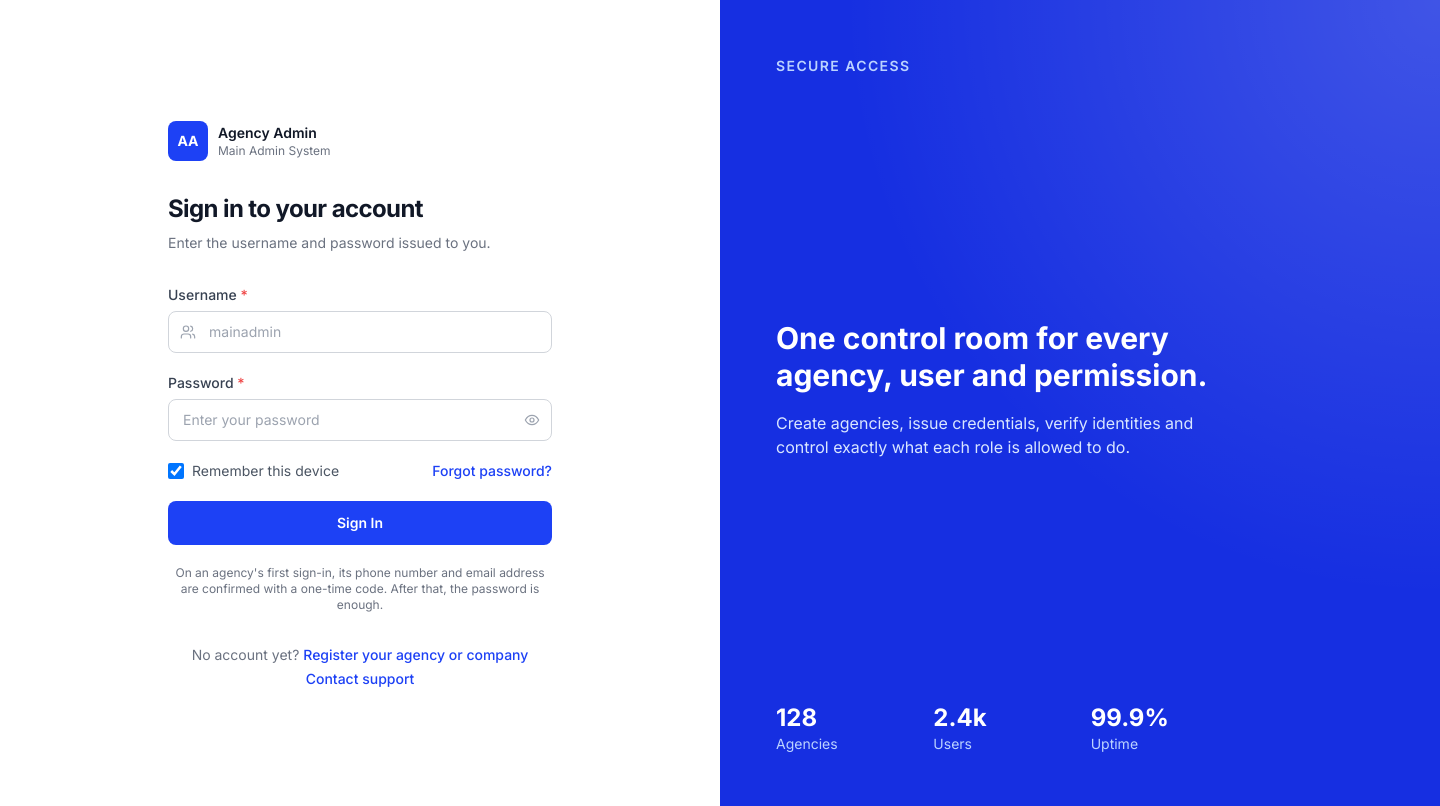
Scenario: two-factor sign-in flow › reaches the email step after the phone code is accepted
Type "main.admin" into the field labelled "Username *".
click(360, 332); type("main.admin")  # box 168,311 -> 552,353
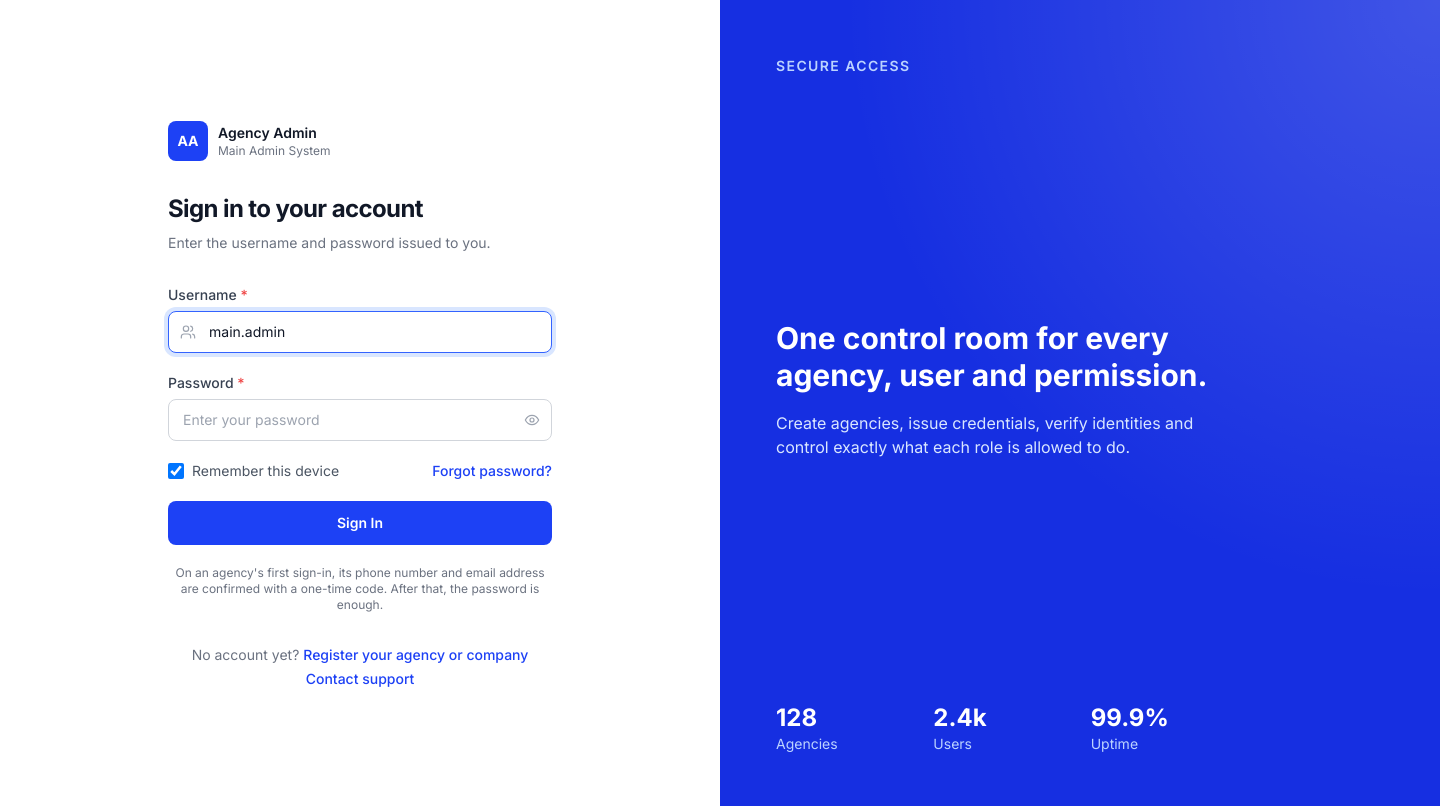
Type "secret123" into the password field labelled "Password *".
click(360, 420); type("secret123")  # box 168,399 -> 552,441
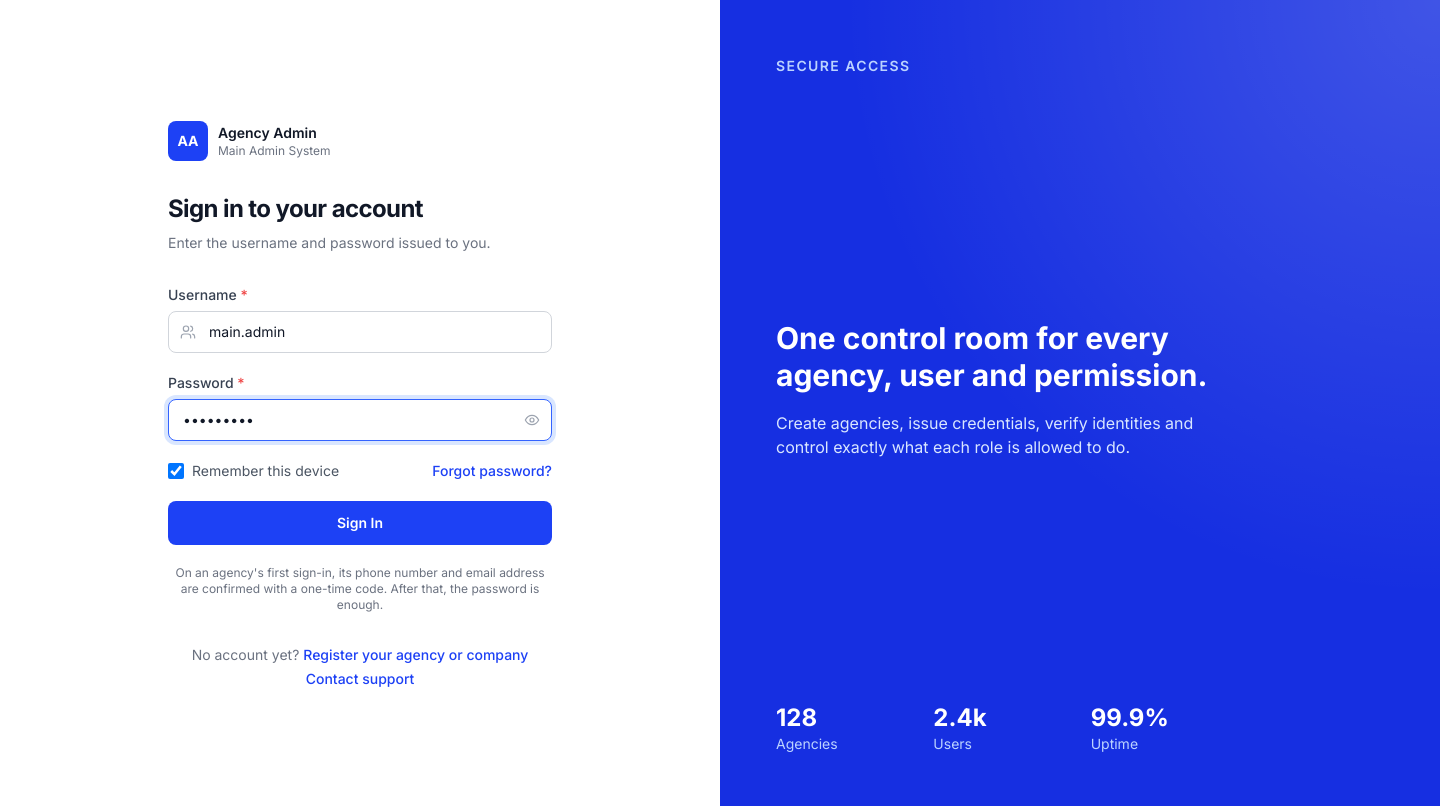
Click the button "Sign In".
click(360, 523)  # box 168,501 -> 552,545
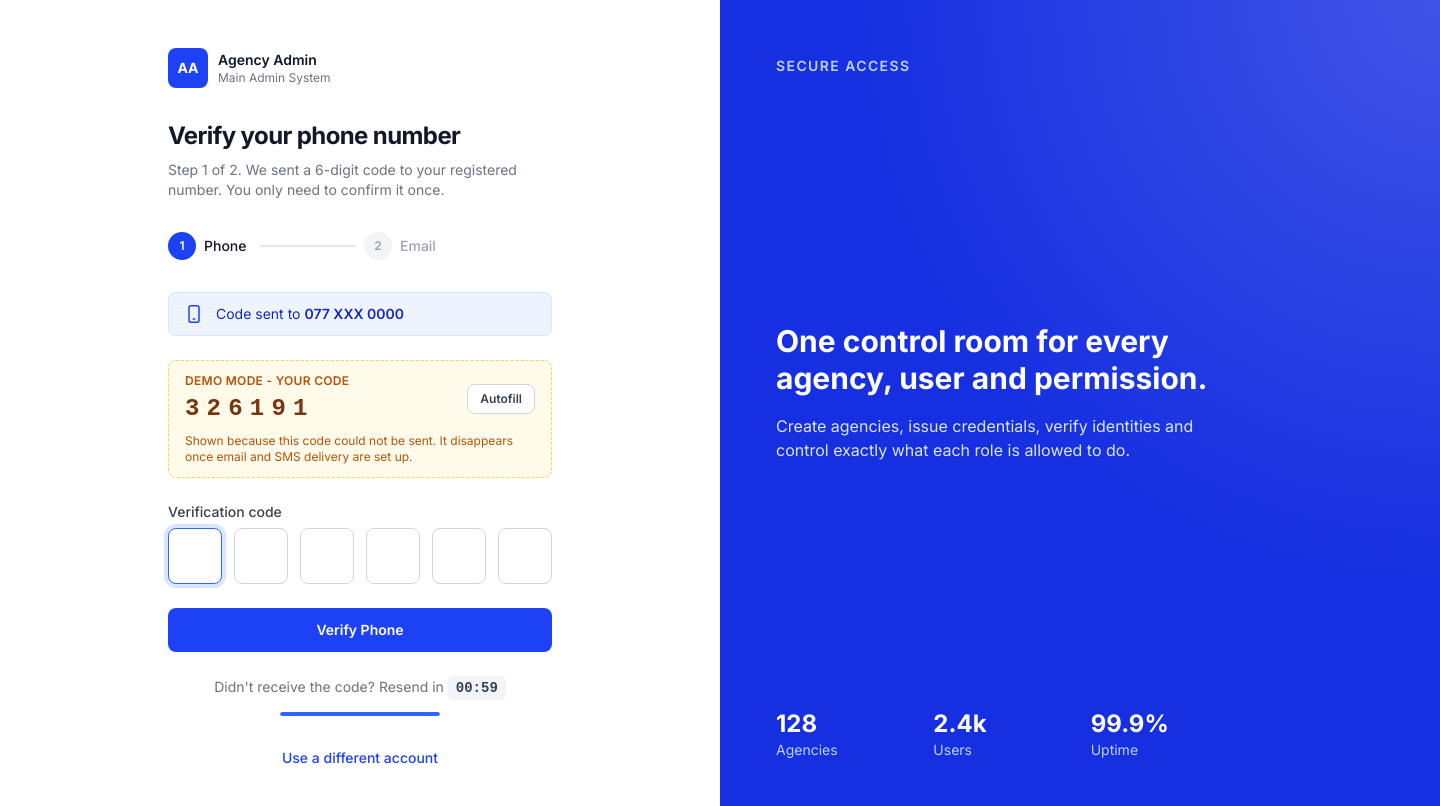
Check: the heading "Verify your phone number" is shown, box 168,121 -> 460,150
Click the button "Autofill".
click(501, 399)  # box 467,384 -> 535,414
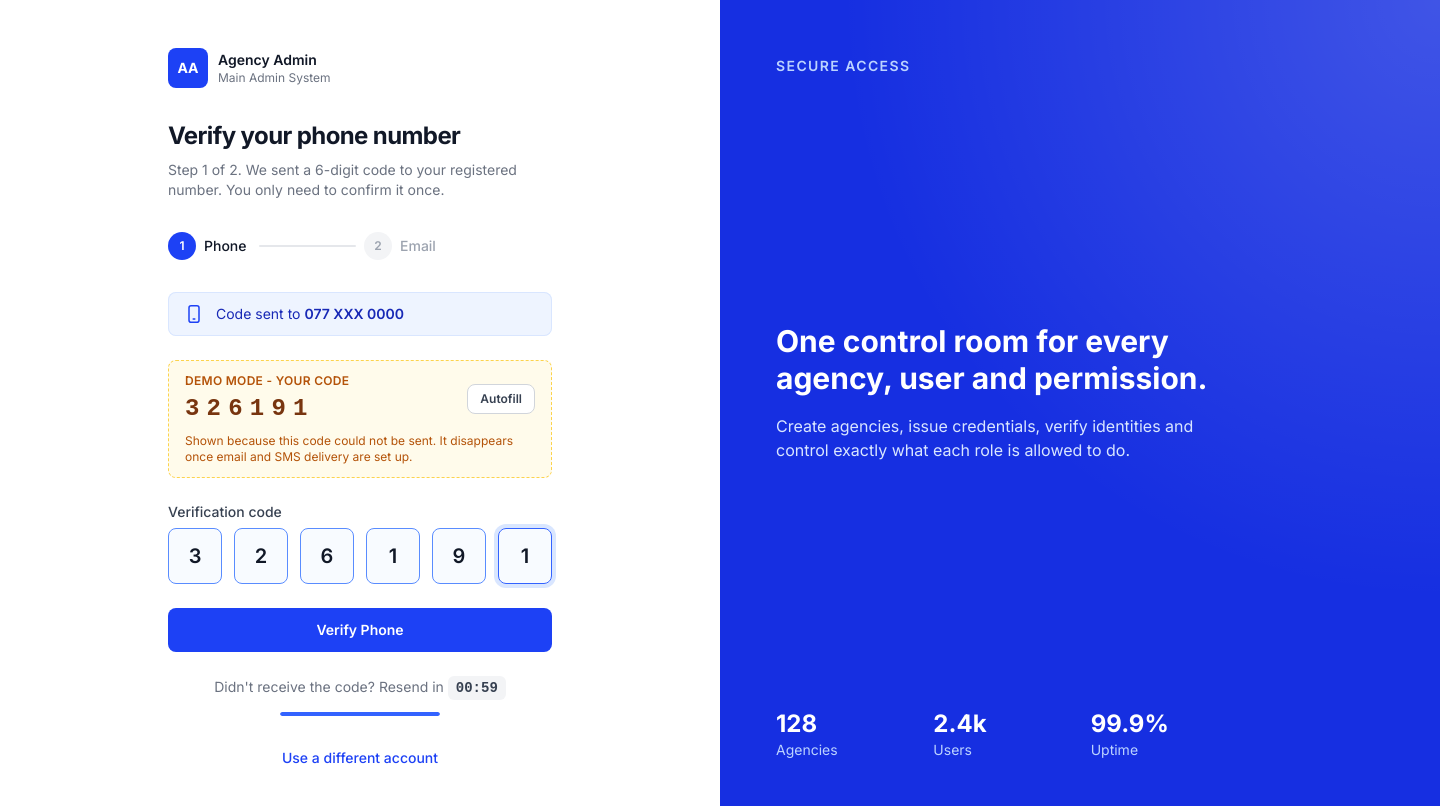
Click the button "Verify Phone".
click(360, 630)  # box 168,608 -> 552,652
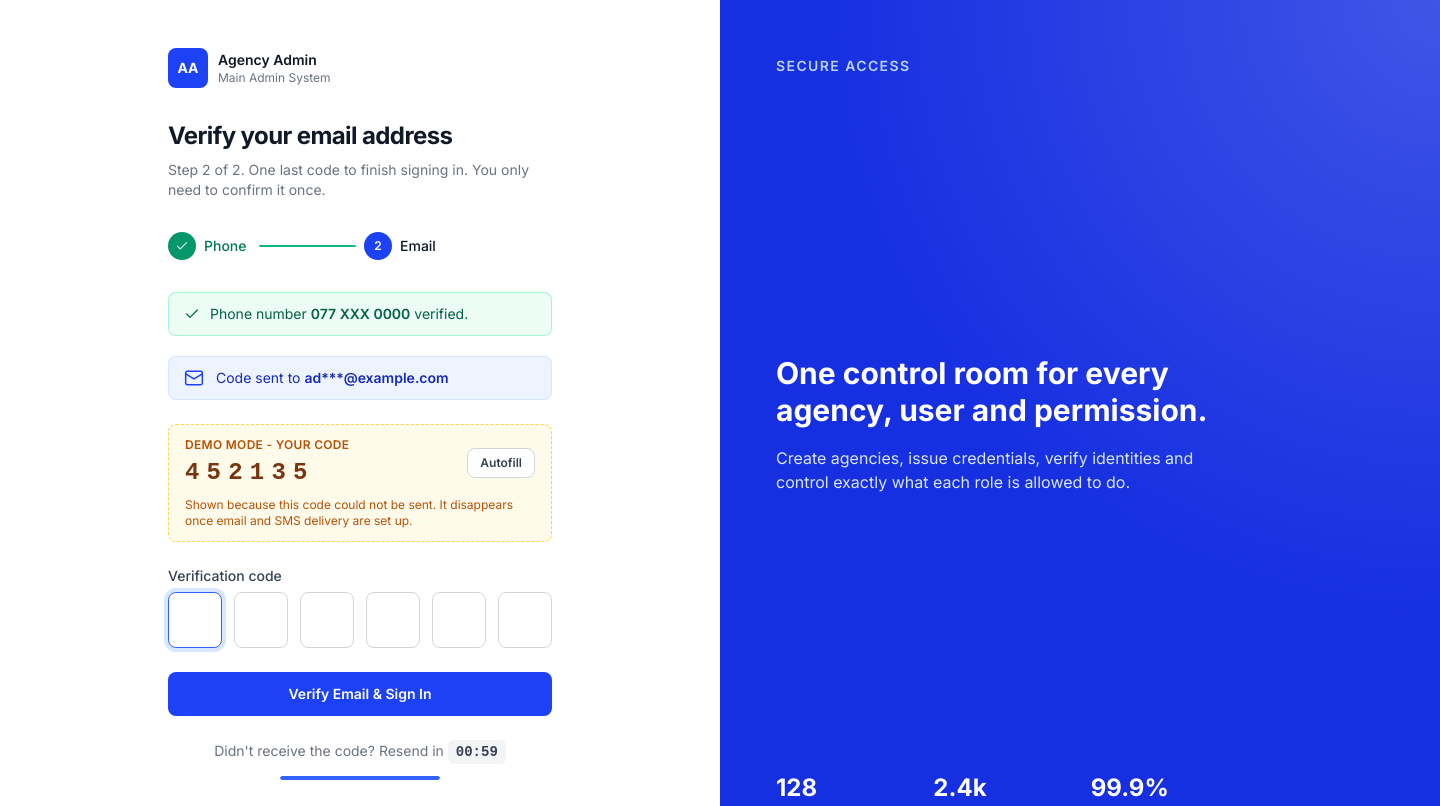
Check: the heading "Verify your email address" is shown, box 168,121 -> 452,150
Check: the text "ad***@example.com" is shown, box 304,369 -> 449,386
